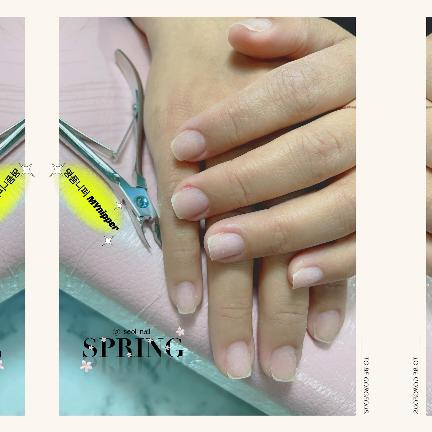Nail: (170, 187, 208, 219), (206, 232, 244, 261), (170, 130, 206, 160), (225, 341, 250, 379), (269, 345, 295, 381), (313, 310, 339, 343), (175, 281, 195, 314), (292, 267, 323, 288), (229, 19, 271, 32)
